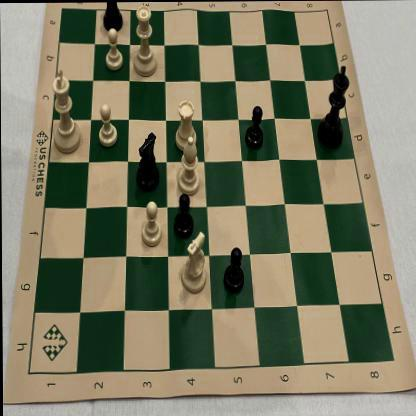black-king: (314, 61, 354, 150)
black-knight: (134, 127, 162, 196)
black-pawn: (221, 242, 247, 296), (170, 190, 196, 239), (242, 101, 266, 152)
black-rook: (102, 2, 124, 36)
white-bishop: (174, 135, 206, 198)
white-king: (48, 64, 85, 158)
white-knight: (178, 228, 210, 298)
white-pawn: (95, 101, 121, 150), (102, 24, 127, 74), (140, 200, 163, 252)
white-queen: (129, 2, 161, 80)
white-rook: (172, 96, 198, 155)
